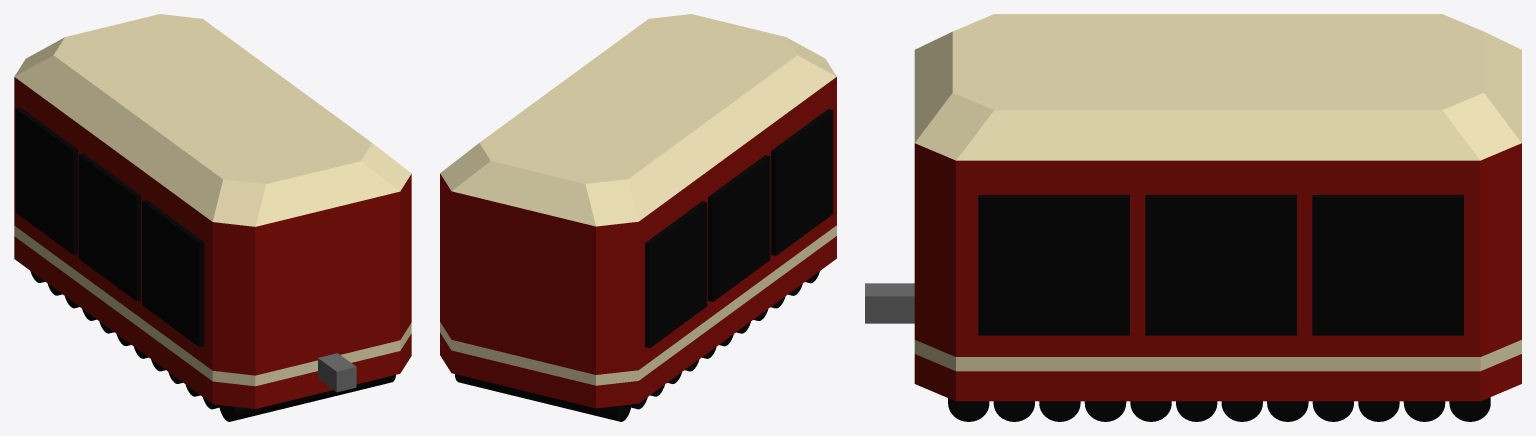
Rendered from traincarriage1.glb.
The picture shows the model from 3 angles, left to right: view 1: azimuth 30°, elevation 25°; view 2: azimuth 150°, elevation 25°; view 3: azimuth 270°, elevation 25°; orthographic projection. The views are drawn at different scales.
Visible parts, largest first — view 1: Body, Window, Wheel; view 2: Body, Window, Wheel; view 3: Body, Window, Wheel.
Part boxes in pixels (left/top/right/bottom): Body: left=14, top=14, right=411, bottom=408; Window: left=15, top=107, right=204, bottom=346; Wheel: left=30, top=271, right=395, bottom=421; Body: left=440, top=14, right=836, bottom=408; Window: left=645, top=109, right=833, bottom=348; Wheel: left=455, top=271, right=819, bottom=421; Body: left=865, top=14, right=1521, bottom=401; Window: left=978, top=195, right=1463, bottom=335; Wheel: left=948, top=397, right=1490, bottom=421.
Size of the model in its own units: 2.1 by 2.24 by 4.33.
